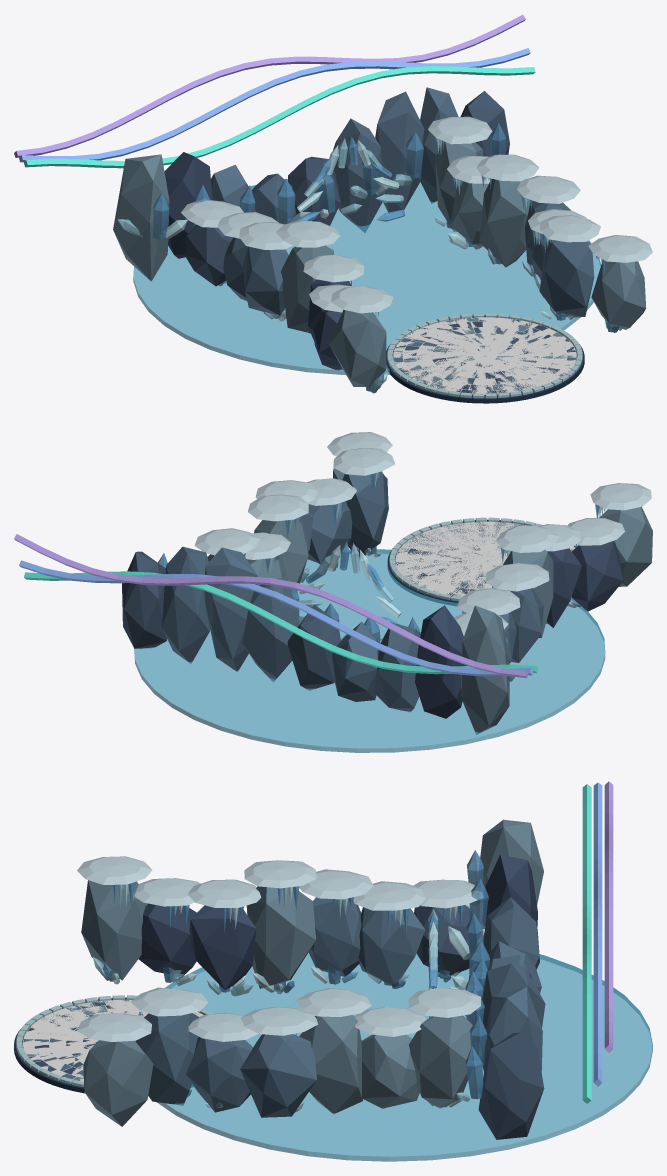
File: arena.fbx
3 views of the same model, one above another, from view 1: azimuth 30°, elevation 25°; view 2: azimuth 150°, elevation 25°; view 3: azimuth 270°, elevation 25° (orthographic). The views are drawn at different scales.
Visible parts, largest first — view 1: arena_backdrop, Col_Ground, arena; view 2: arena_backdrop, Col_Ground, arena; view 3: arena_backdrop, Col_Ground, arena.
Boxes of the visible parts, bbox=[...] form: arena_backdrop: bbox=[14, 14, 652, 393]; Col_Ground: bbox=[393, 317, 576, 394]; arena: bbox=[386, 313, 584, 403]; arena_backdrop: bbox=[14, 432, 652, 752]; Col_Ground: bbox=[395, 521, 575, 596]; arena: bbox=[387, 517, 578, 605]; arena_backdrop: bbox=[77, 781, 652, 1161]; Col_Ground: bbox=[22, 999, 203, 1081]; arena: bbox=[14, 995, 212, 1093].
Size of what is drawn, in the model's own units: 60.21 by 17.21 by 58.2.
